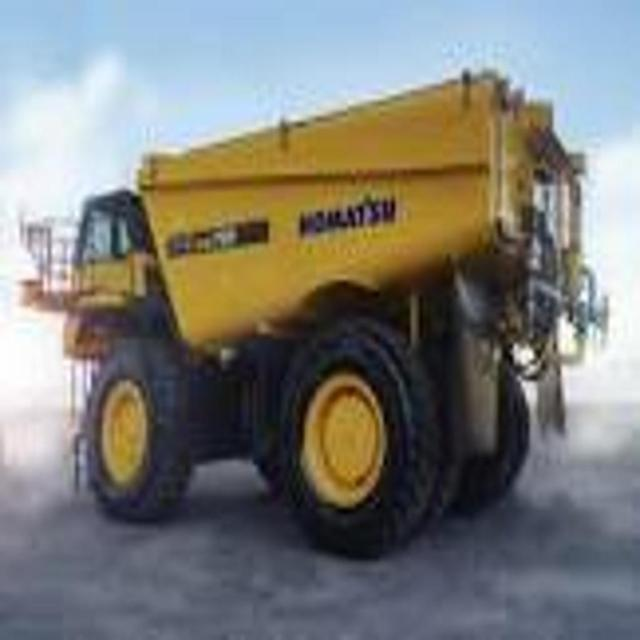dump_truck: (23, 101, 640, 546)
